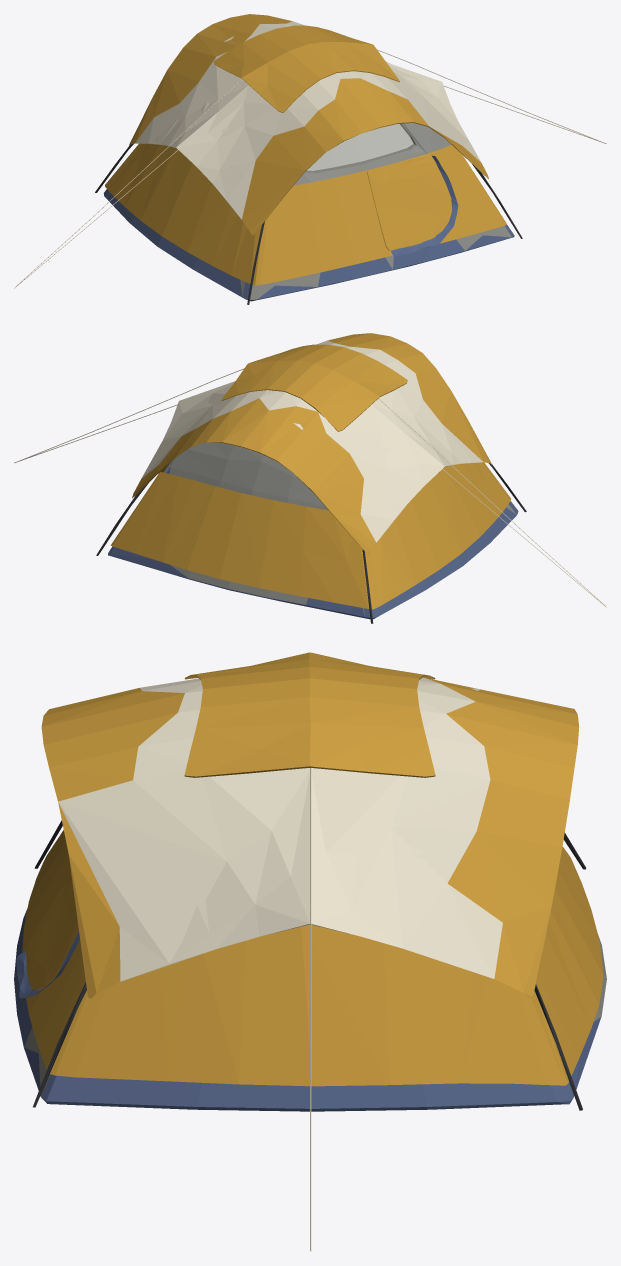
Rendered from tent.glb.
The picture shows the model from 3 angles, top to bottom: view 1: azimuth 30°, elevation 25°; view 2: azimuth 150°, elevation 25°; view 3: azimuth 270°, elevation 25°; orthographic projection. The views are drawn at different scales.
Parts seen in each view (by area): view 1: Tent; view 2: Tent; view 3: Tent.
Part boxes in pixels (box(x1,y1,x2,y2)): Tent: box(14, 14, 606, 304); Tent: box(14, 333, 606, 623); Tent: box(14, 652, 606, 1251).
Size of the model in its own units: 4.3 by 1.2 by 2.08.
